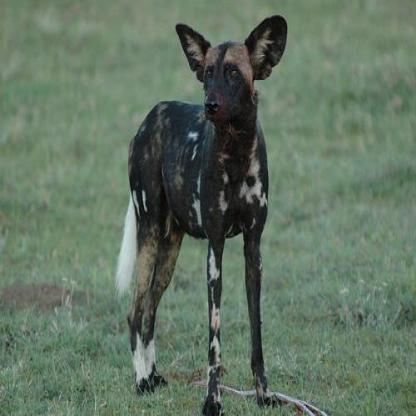African_hunting_dog: (114, 11, 289, 414)
